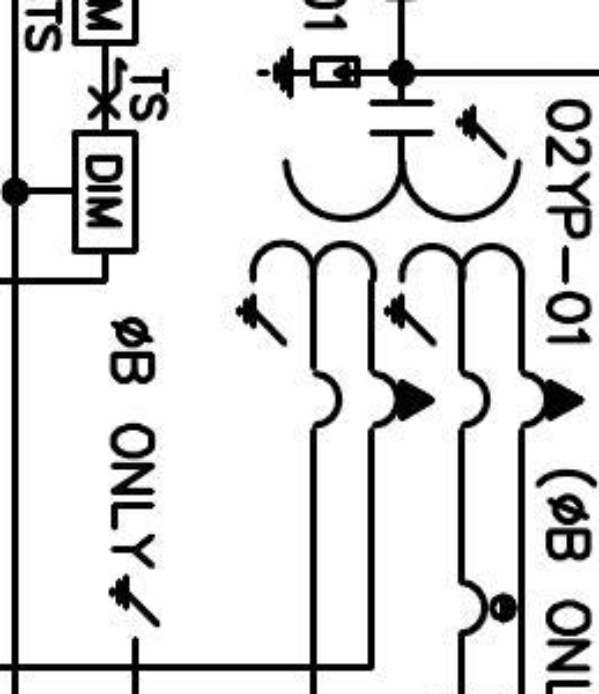115_cvt_1p: (233, 98, 587, 434)
115_la: (255, 45, 362, 101)
DIM: (71, 129, 139, 255)
